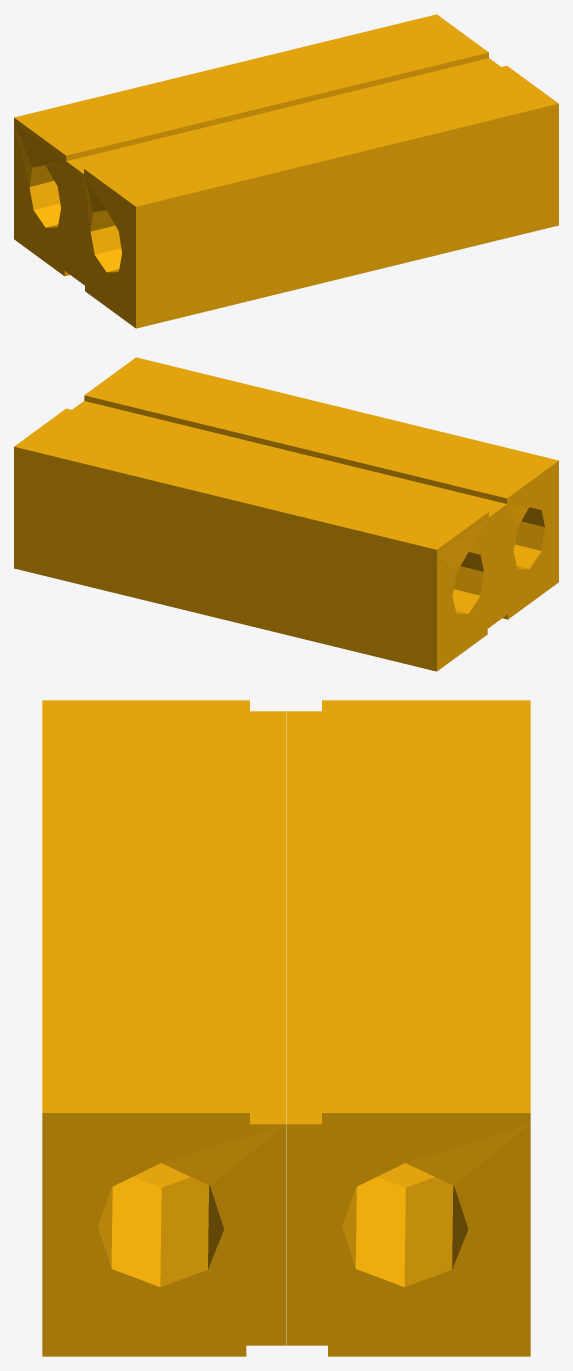
File: Gach.fbx
3 views of the same model, one above another, from view 1: azimuth 30°, elevation 25°; view 2: azimuth 150°, elevation 25°; view 3: azimuth 270°, elevation 25° (orthographic). The views are drawn at different scales.
Visible parts, largest first — view 1: pCube3; view 2: pCube3; view 3: pCube3.
Part boxes in pixels (x1,y1,x2,y2): pCube3: [14, 14, 558, 328]; pCube3: [14, 357, 558, 671]; pCube3: [42, 700, 530, 1356].
Size of the model in its own units: 0.8033 by 0.2202 by 0.4.
